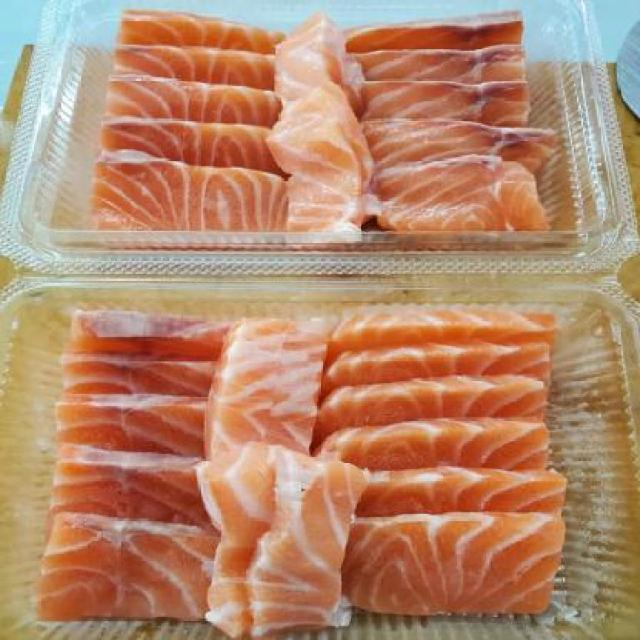salmon: (54, 289, 575, 627), (104, 0, 574, 276)
